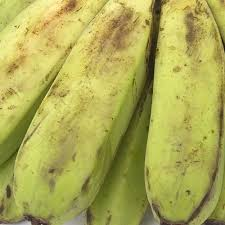looks_good: (26, 1, 225, 225)
